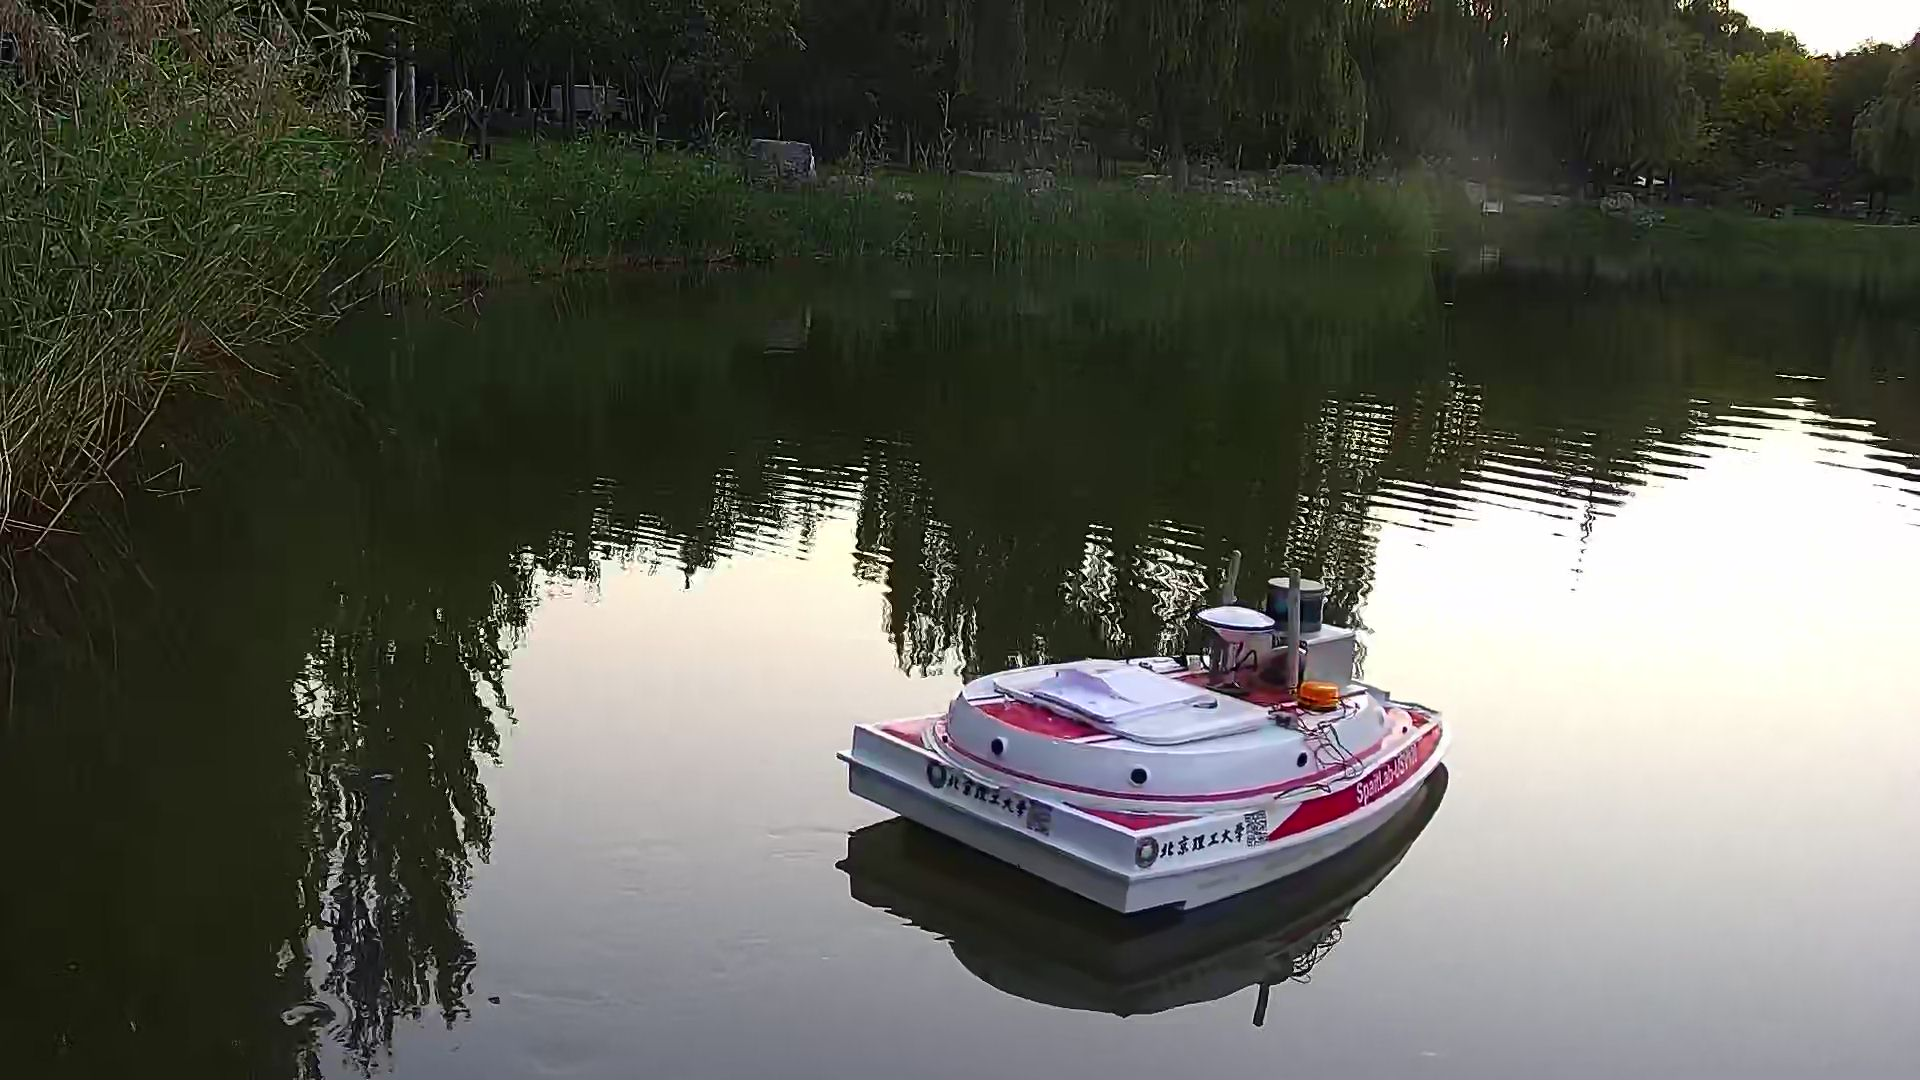boat: (825, 521, 1497, 924)
